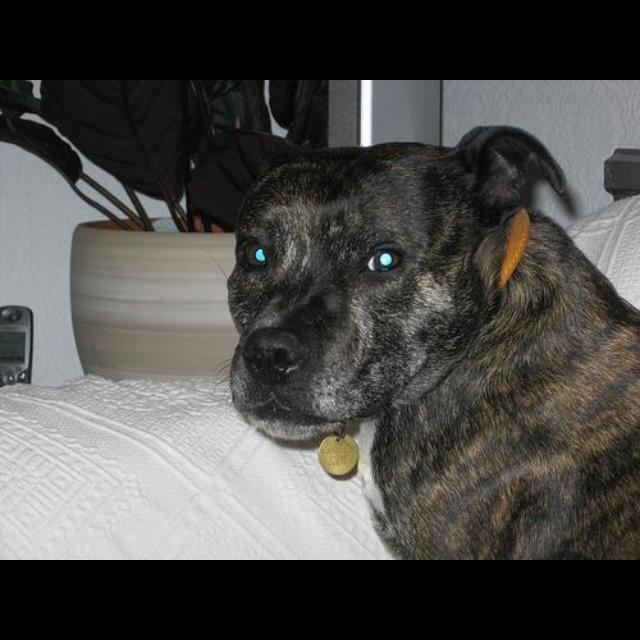staffford: (219, 125, 640, 560)
